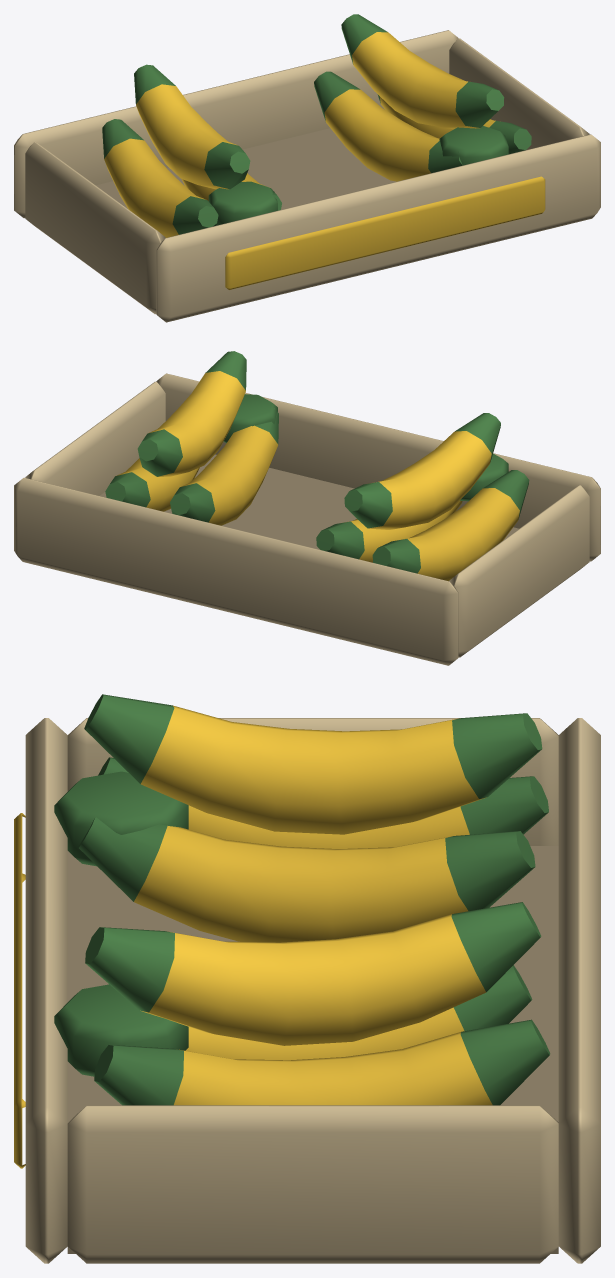
Rendered from ProduceTray_Bananas_01.glb.
3 renders of one model, top to bottom at view 1: azimuth 30°, elevation 25°; view 2: azimuth 150°, elevation 25°; view 3: azimuth 270°, elevation 25°, orthographic. The views are drawn at different scales.
Visible parts, largest first — view 1: SM_ProduceTray_Bananas_01; view 2: SM_ProduceTray_Bananas_01; view 3: SM_ProduceTray_Bananas_01.
Part boxes in pixels (box(x1,y1,x2,y2)): SM_ProduceTray_Bananas_01: box(14, 14, 600, 322); SM_ProduceTray_Bananas_01: box(14, 351, 600, 665); SM_ProduceTray_Bananas_01: box(14, 694, 600, 1263).
Size of the model in its own units: 0.5 by 0.1488 by 0.306.
1 material, 1 textured.
